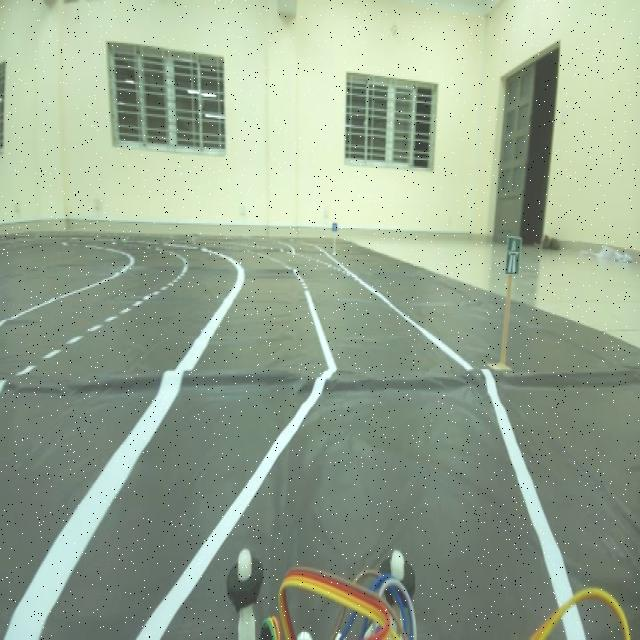highway_entry: (499, 226, 525, 283)
